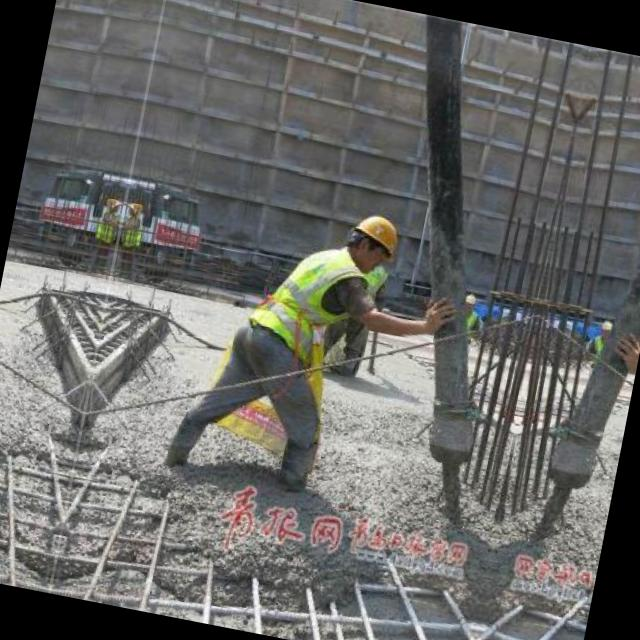helmet: (335, 200, 409, 275)
